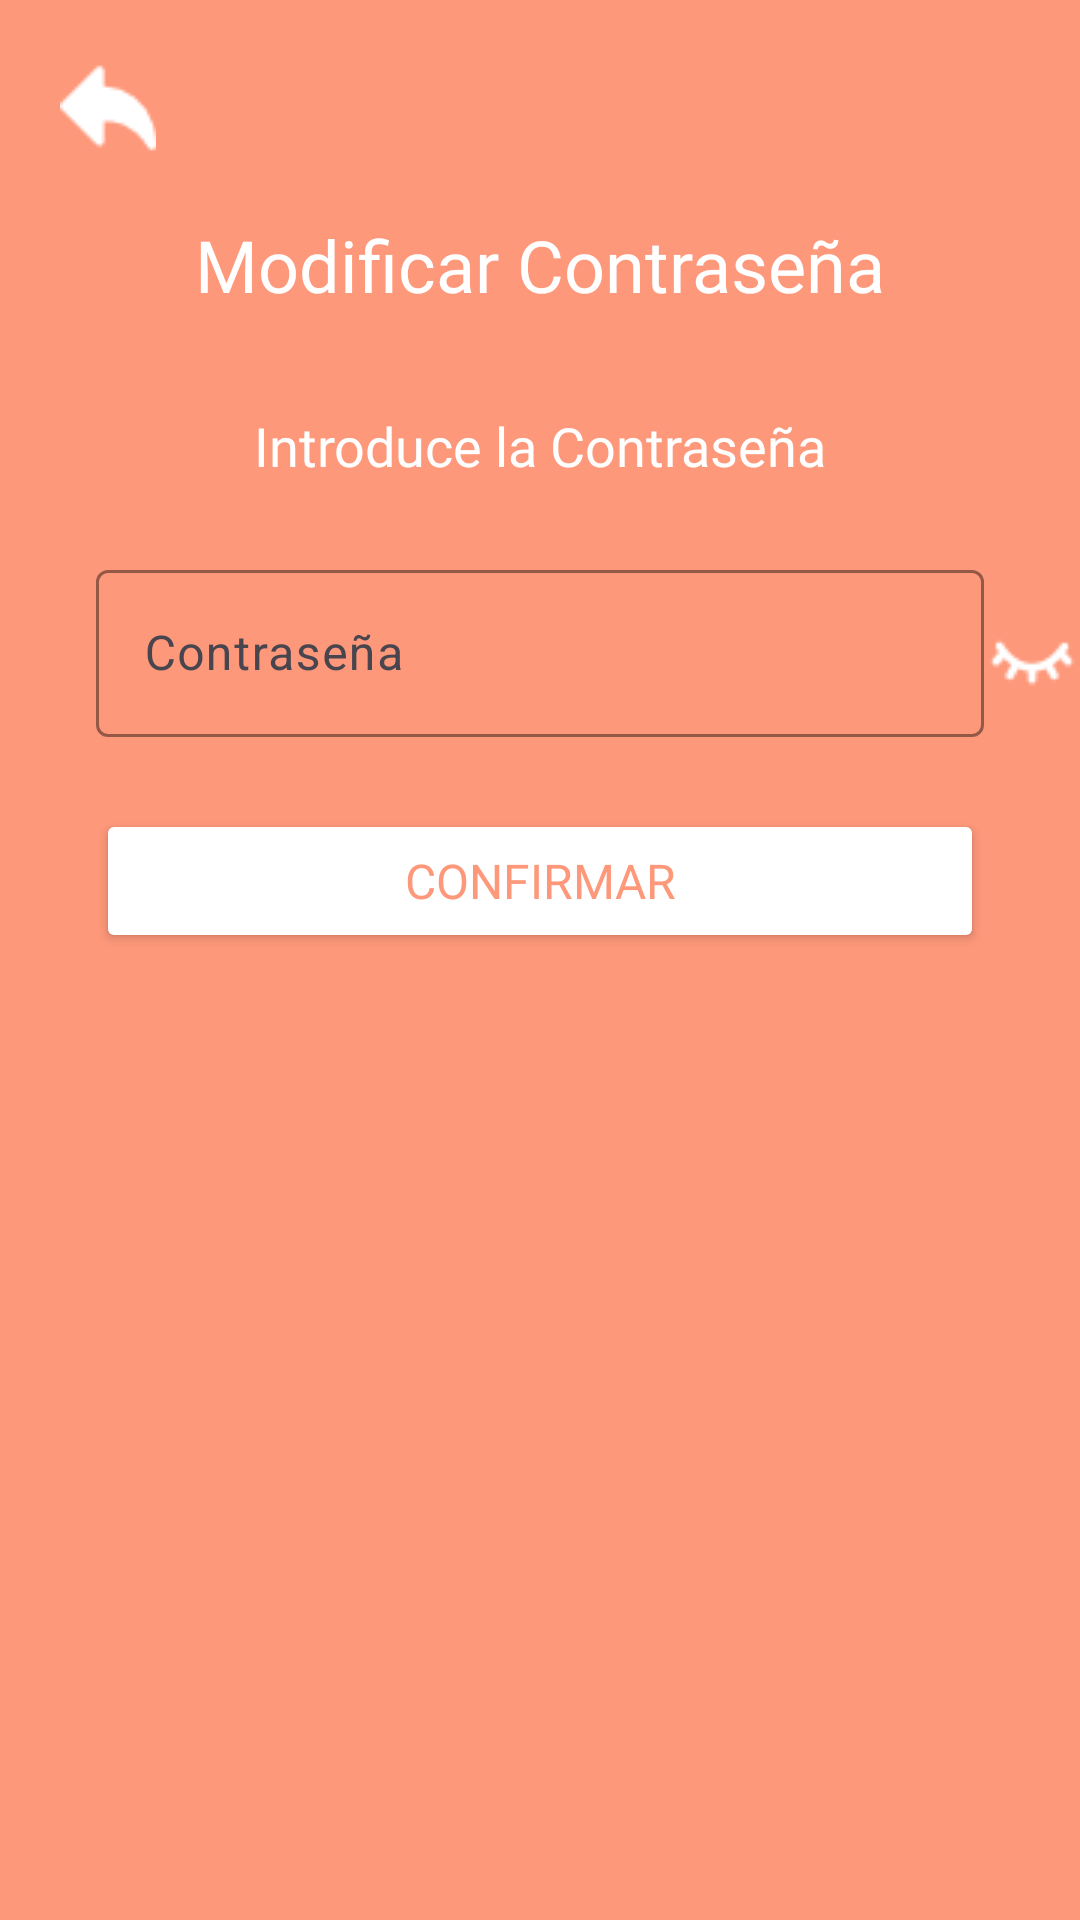

Icon bounding boxes for this 1080*1920 phone screenshot, format {"left": x1, "top": y1, "right": x2, "bottom": y2}:
atras: {"left": 60, "top": 65, "right": 156, "bottom": 151}
ojo cerrado: {"left": 991, "top": 641, "right": 1073, "bottom": 685}
